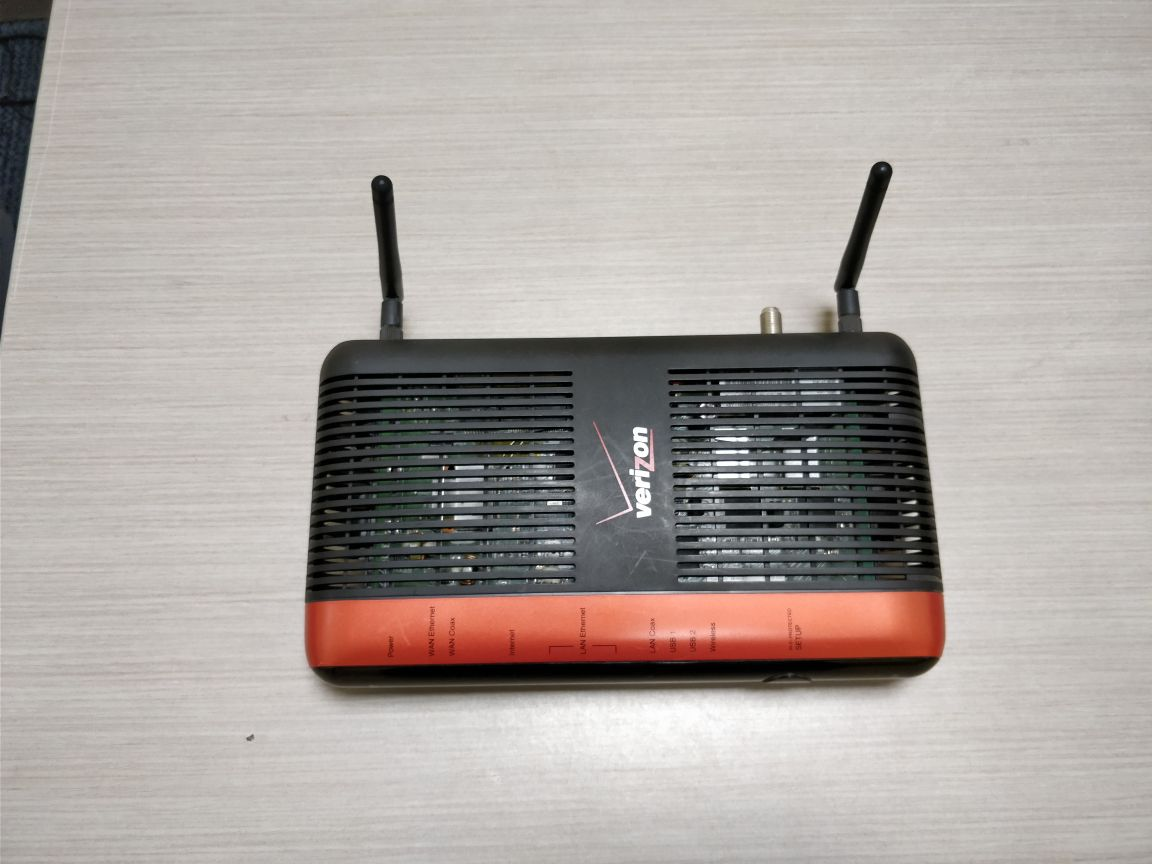Verizon Router: (286, 146, 977, 719)
